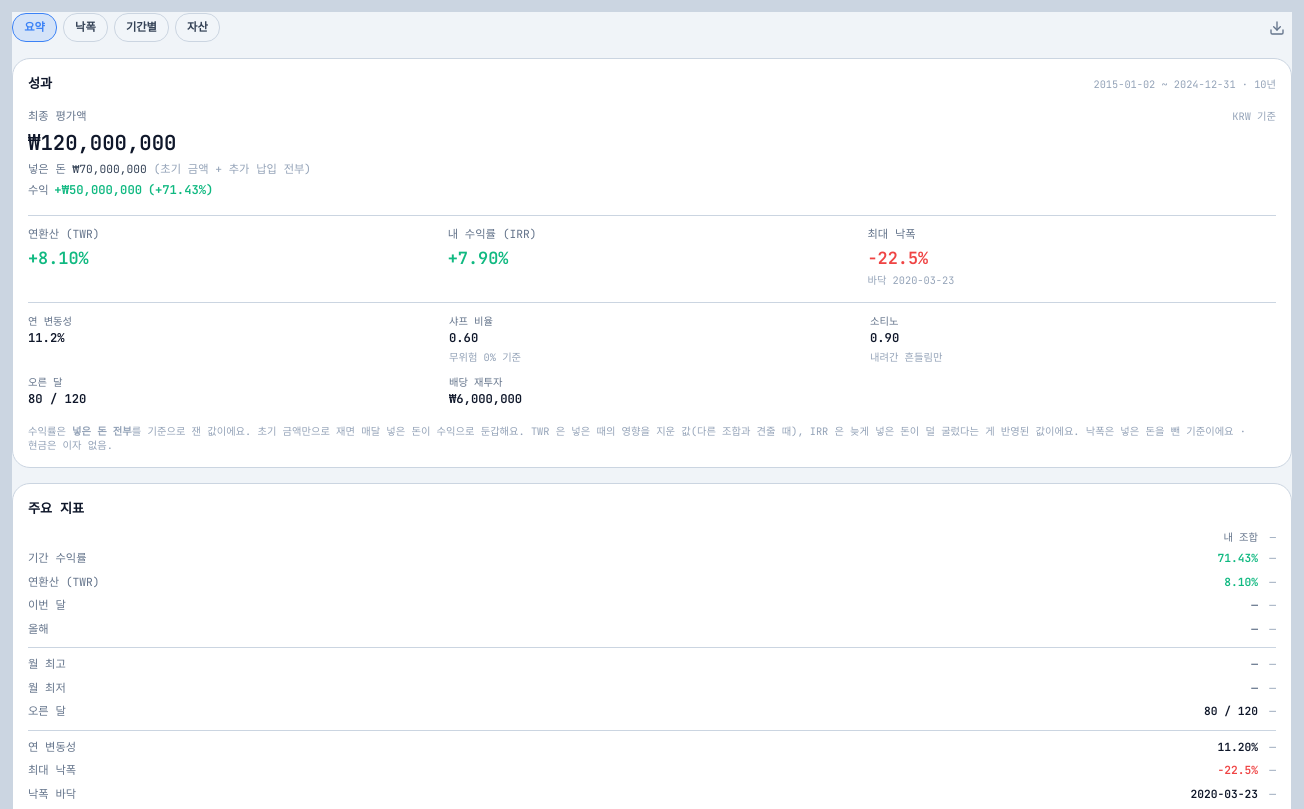
Scenario: 자산마다 — 누가 얼마를 벌었나 › 잃은 자산이 둘이면 둘 다, 잃은 돈은 합쳐서
The image size is (1304, 809).
Click the tab "자산": (197, 28) [175, 13, 220, 42]
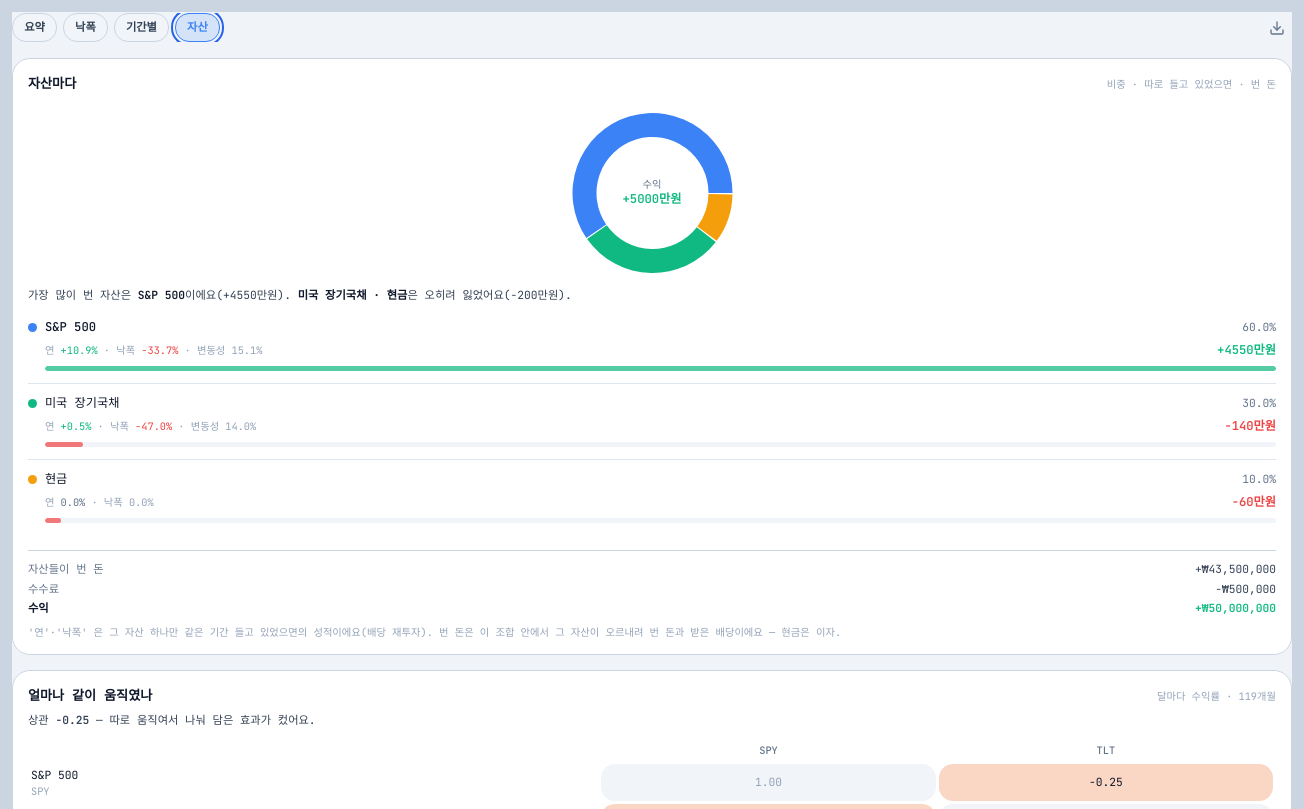
Result: the text "가장 많이 번 자산은" reads "가장 많이 번 자산은 S&P 500이에요(+4550만원). 미국 장기국채 · 현금은 오히려 잃었어요(-200만원)." at [28, 288, 572, 302]
